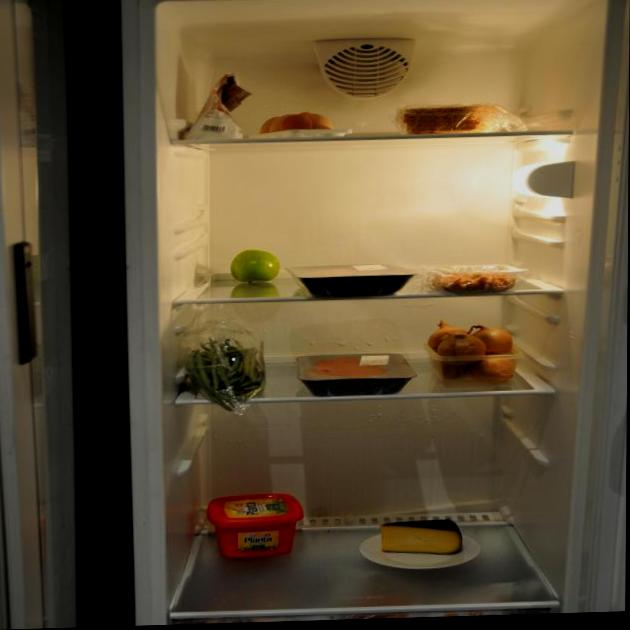apple: (230, 234, 289, 295)
bread: (394, 85, 517, 143)
cheese: (367, 513, 494, 574)
eggs: (258, 102, 346, 145)
green beans: (180, 319, 271, 413)
meat: (288, 251, 406, 304), (294, 352, 410, 395)
onion: (421, 314, 525, 385)
